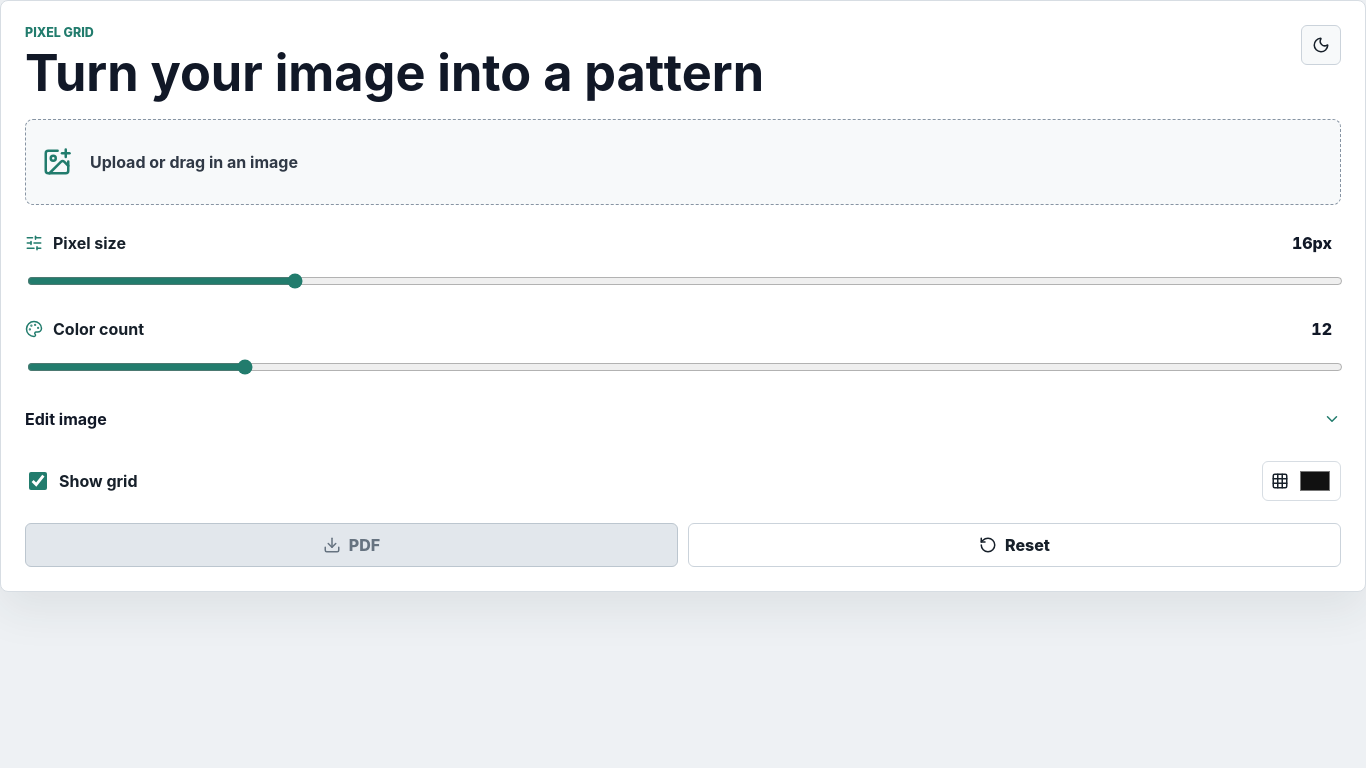
Test: ControlPanel › shows image adjustment controls behind the edit image toggle
Click the button "Edit image": (66,419) [25, 399, 1341, 439]
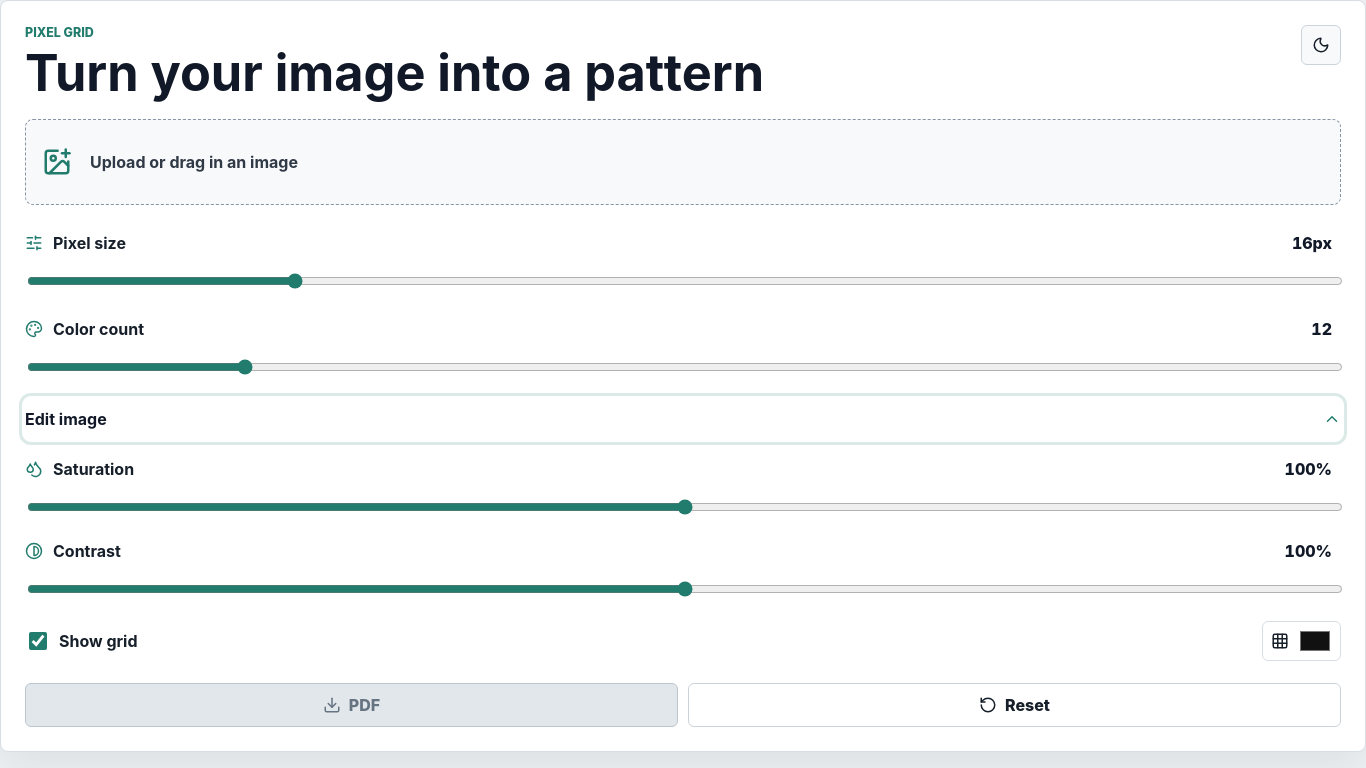
Result: the slider named "saturation" is shown at [27, 499, 1343, 515]
Result: the slider named "contrast" is shown at [27, 581, 1343, 597]
